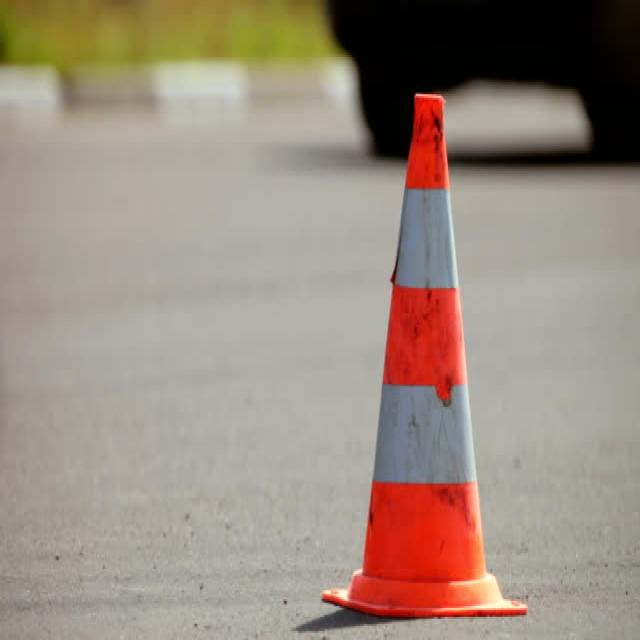Traffic Cone: (291, 42, 564, 640)
